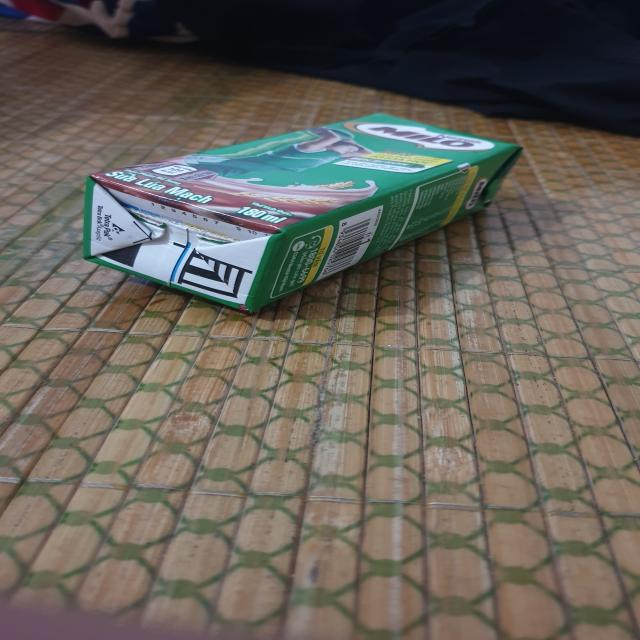Milo: (79, 113, 532, 318)
